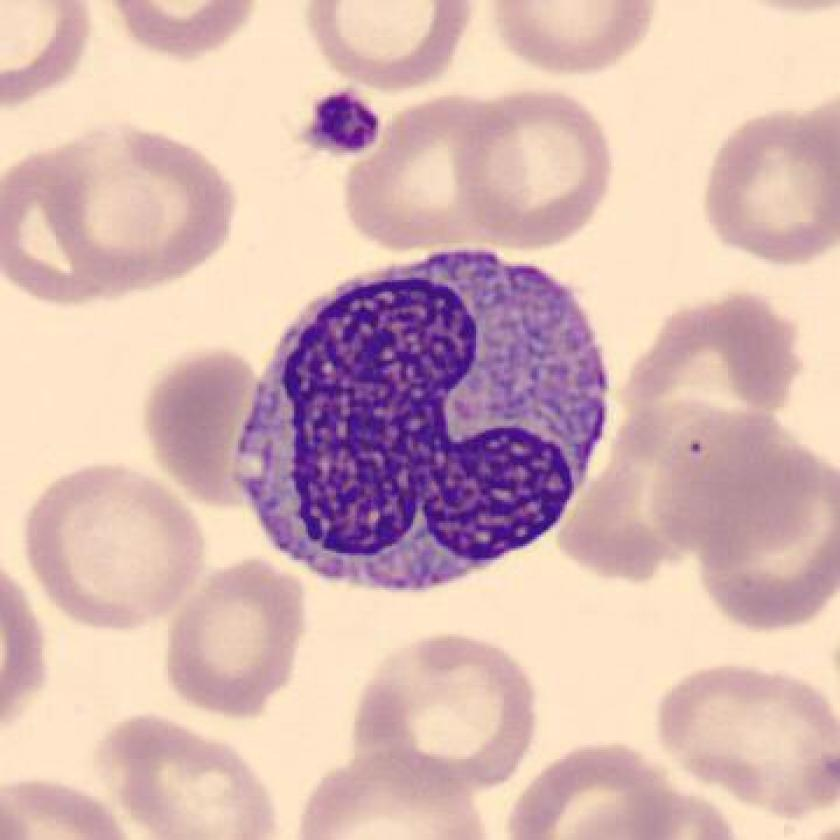monocyte: (220, 237, 638, 617)
